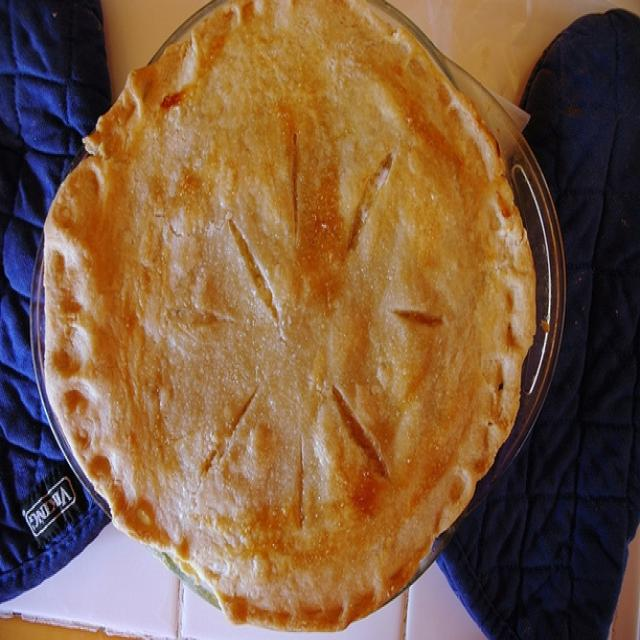炸货点心: (23, 31, 586, 615)
蛋糕甜品: (23, 31, 586, 615)
